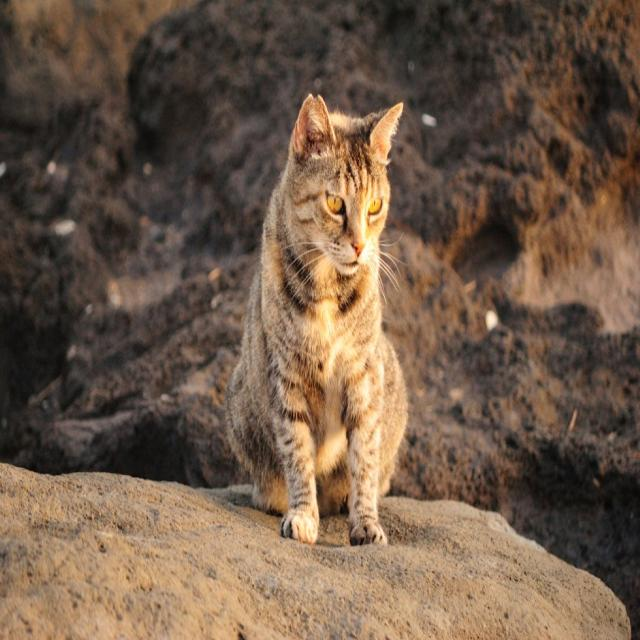cat: (228, 95, 408, 545)
